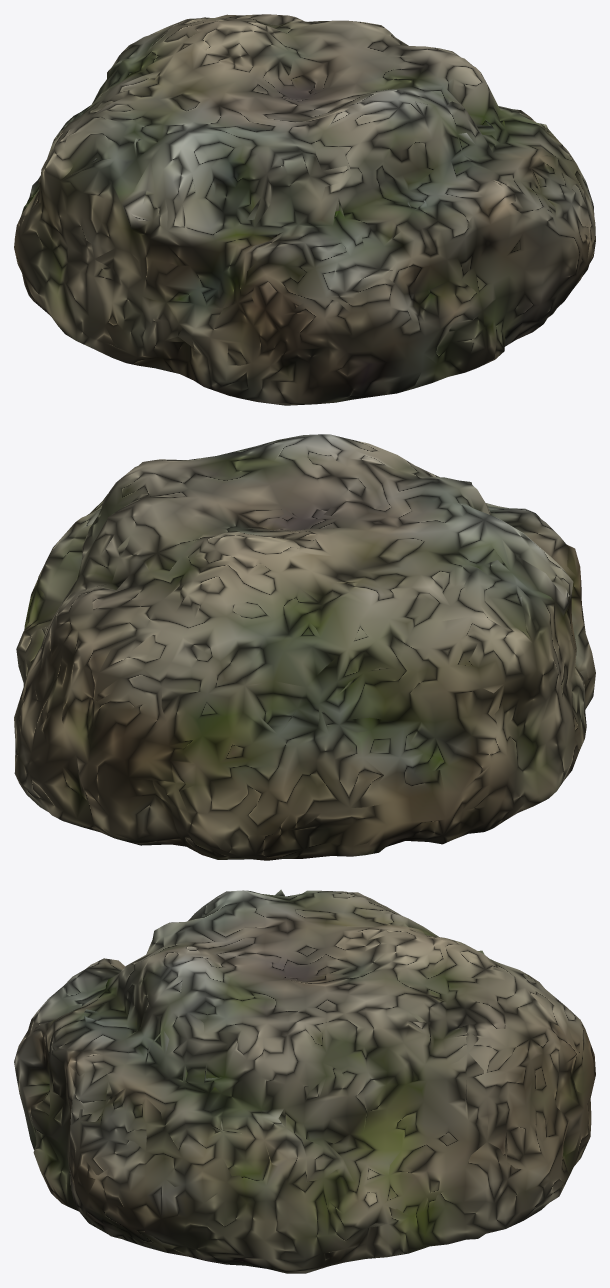
The model's file is boulder_a.1.glb.
The picture shows the model from 3 angles, top to bottom: view 1: azimuth 30°, elevation 25°; view 2: azimuth 150°, elevation 25°; view 3: azimuth 270°, elevation 25°; orthographic projection. The views are drawn at different scales.
Visible parts, largest first — view 1: lod; view 2: lod; view 3: lod.
Boxes of the visible parts, box(x1,y1,x2,y2) form: lod: box(14, 14, 595, 405); lod: box(14, 434, 595, 860); lod: box(14, 889, 595, 1273).
Size of the model in its own units: 0.9191 by 0.4253 by 0.9977.
